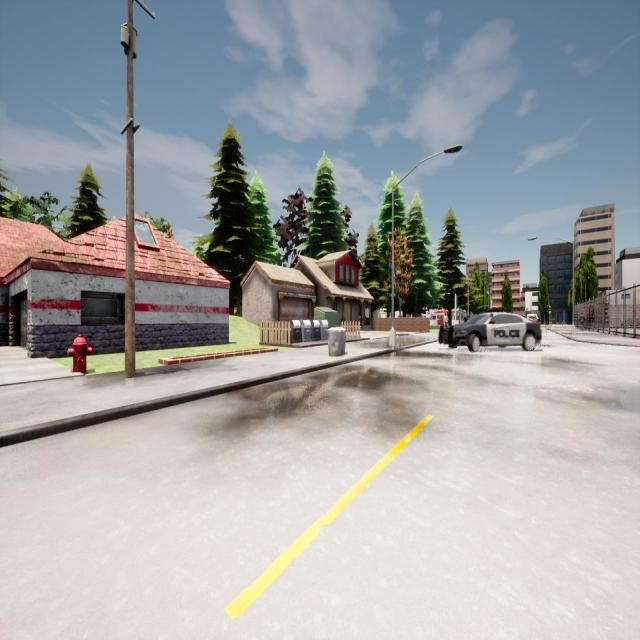Pedestrian: (580, 313, 585, 330), (444, 312, 448, 328)
Vehicle: (438, 312, 541, 351)
traffic_light: (549, 306, 552, 316), (456, 296, 458, 308)
